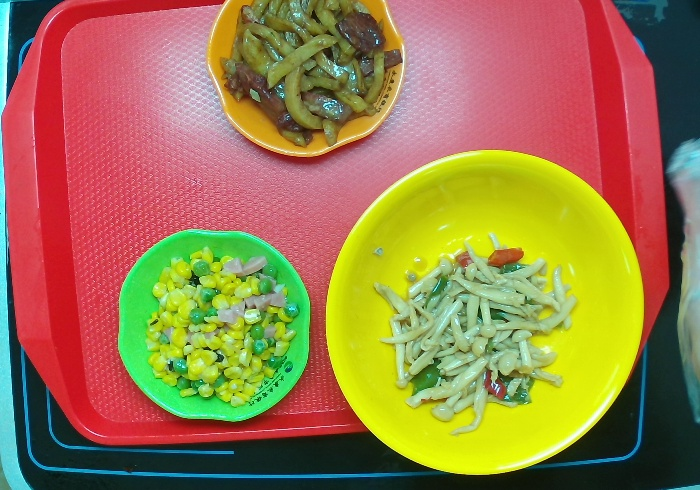YKMZ-Huang_Se_Tang_Wan: (323, 149, 642, 476)
YKMZ-Ju_Se_Ao_Bian_Wan: (204, 1, 408, 162)
YKMZ-Lv_Se_Ao_Bian_Wan: (115, 227, 311, 422)
